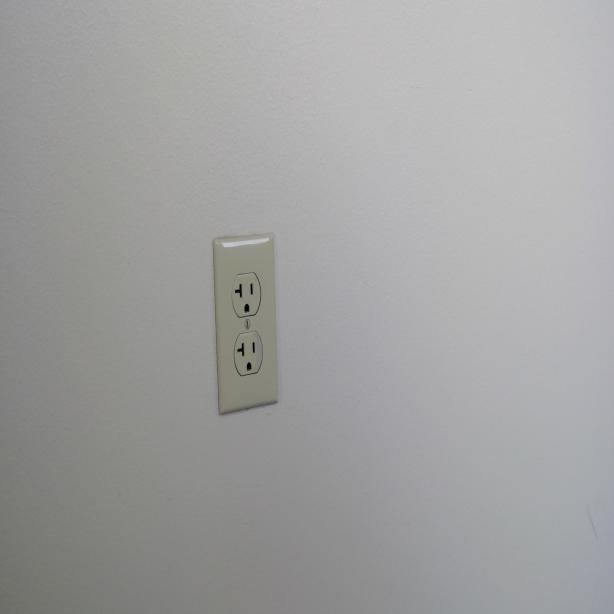typeb: (233, 334, 262, 378), (231, 273, 260, 316)
